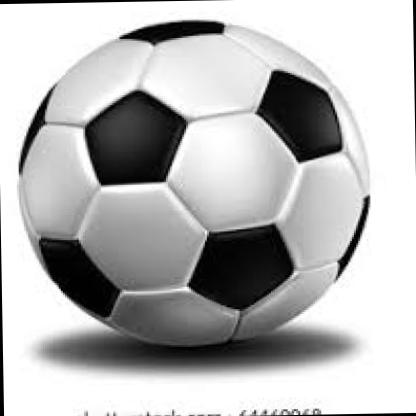ball: (15, 14, 370, 351)
